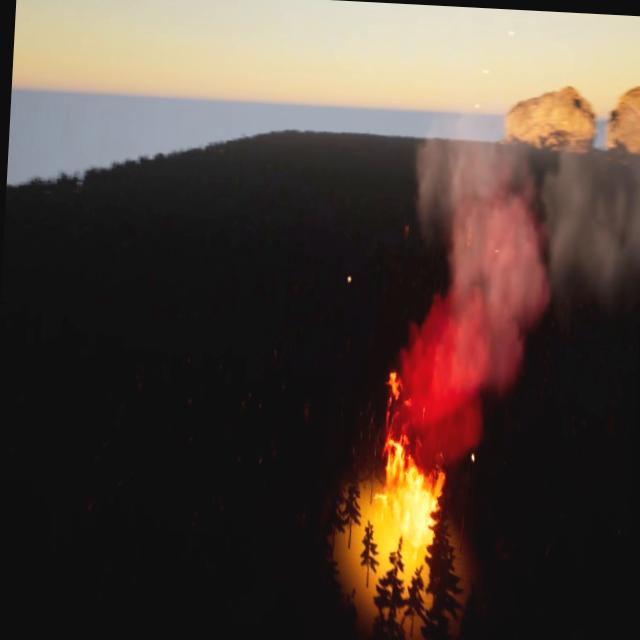fire: (370, 374, 444, 556)
smoke: (388, 107, 640, 457)
